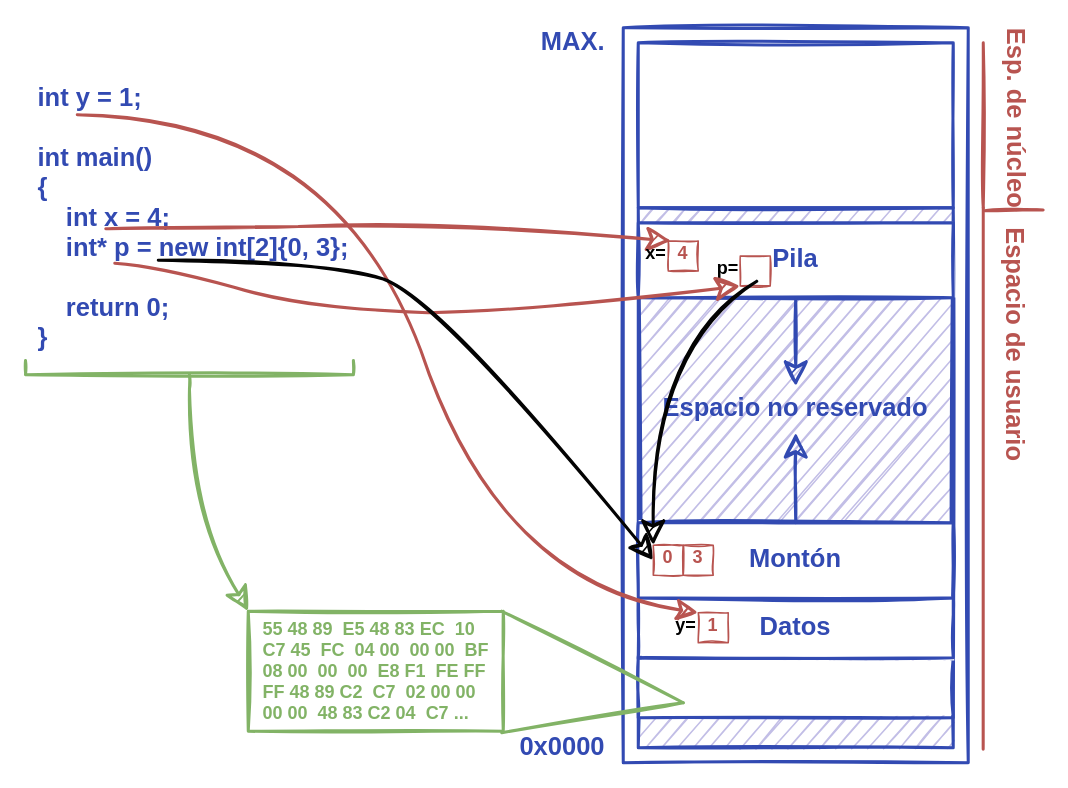
The diagram is 1068 pixels wide and 788 high, and some of its shapes have lost their labels. Each missing label, with the centre of its shape:
2ff...: the point at 754,270
Código: the point at 795,687
Sistema operativo (Núcleo): the point at 795,124
